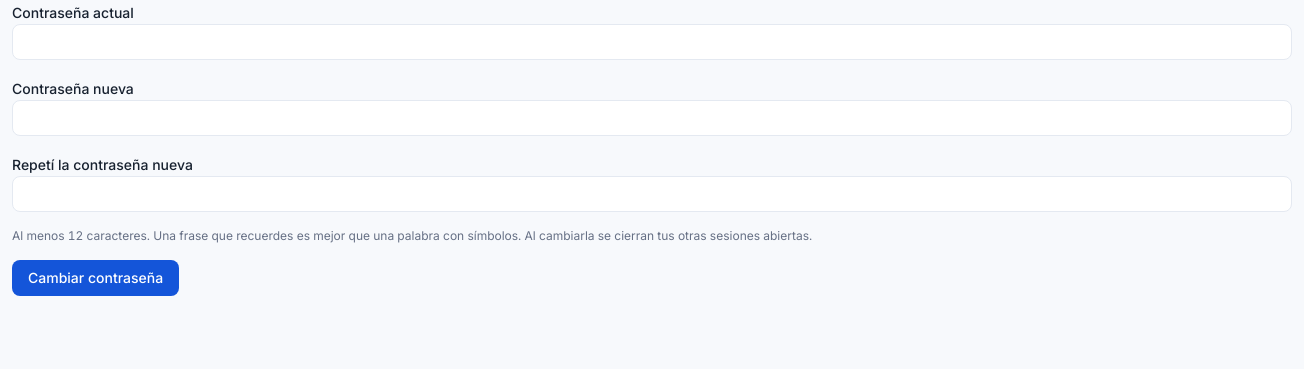
Test: PasswordForm › shows the backend's reason
Type "mal" into the password field labelled "Contraseña actual". click: (652, 42)
box: [12,24,1292,60]
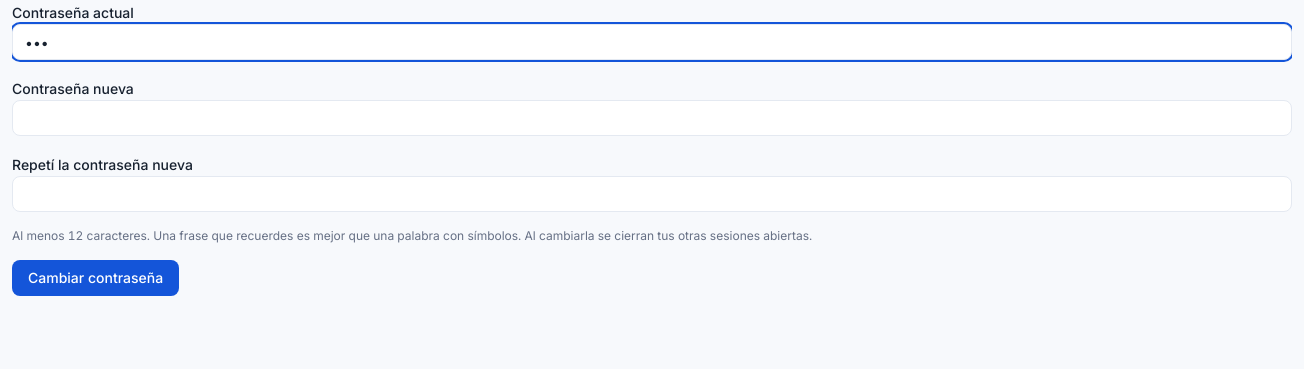
Type "una-frase-bien-larga" into the password field labelled "Contraseña nueva". click: (652, 118)
box: [12,100,1292,136]
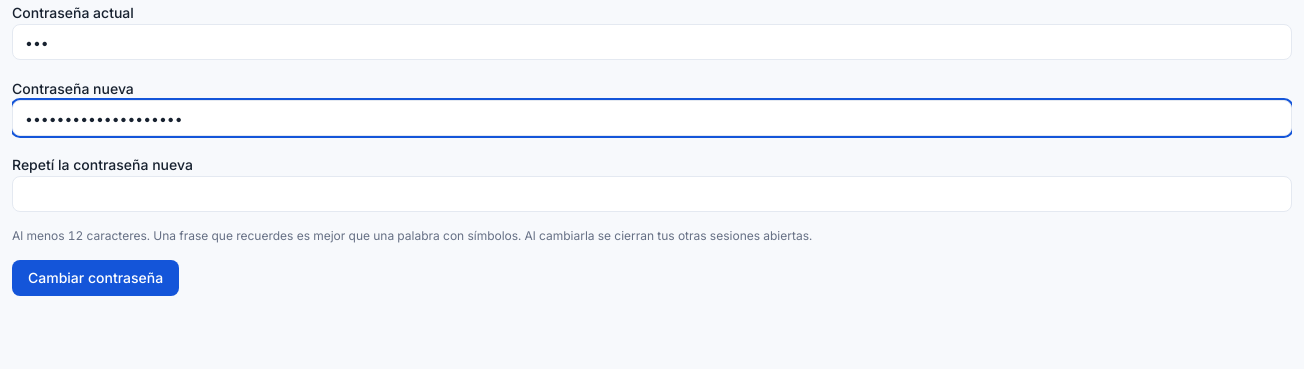
Type "una-frase-bien-larga" into the password field labelled "Repetí la contraseña nueva". click: (652, 194)
box: [12,176,1292,212]
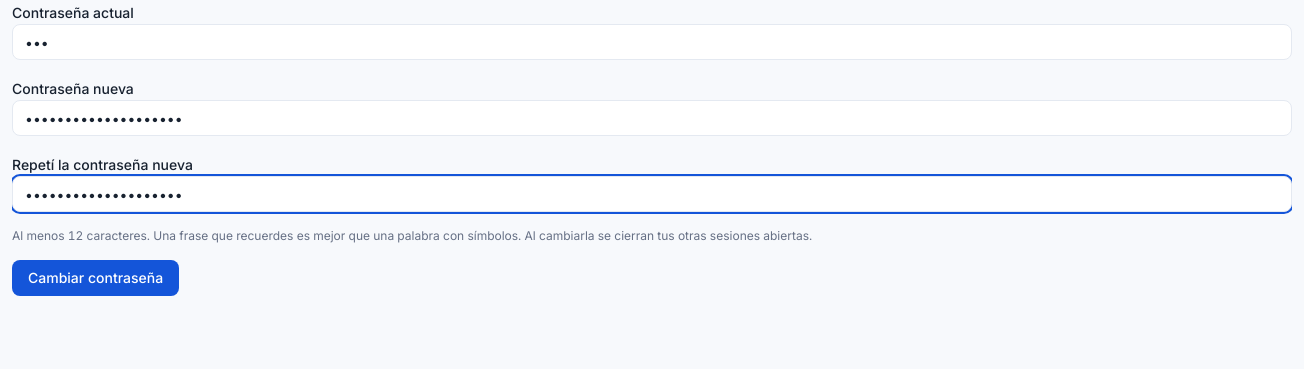
Click the button "Cambiar contraseña". click: (96, 278)
box: [12,260,179,296]
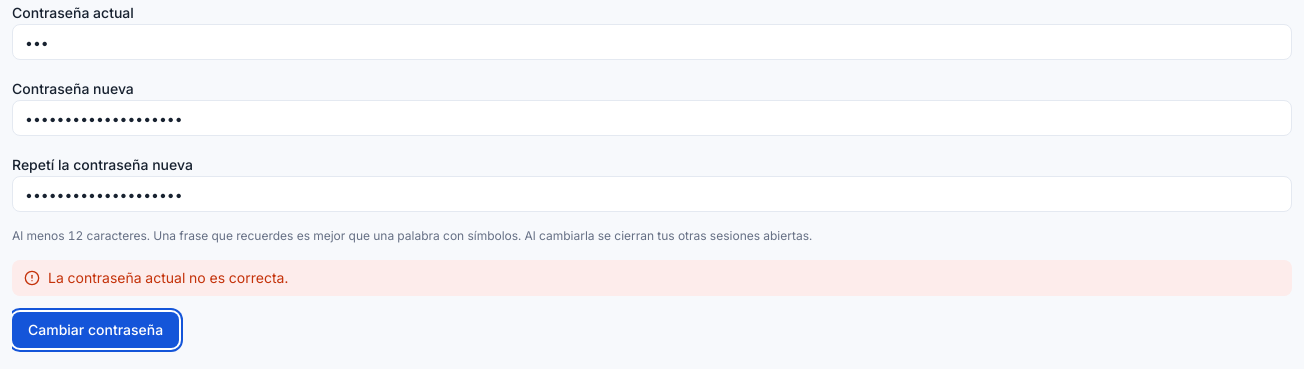
Expected: the message reads "La contraseña actual no es correcta.", [48,269,288,286]
